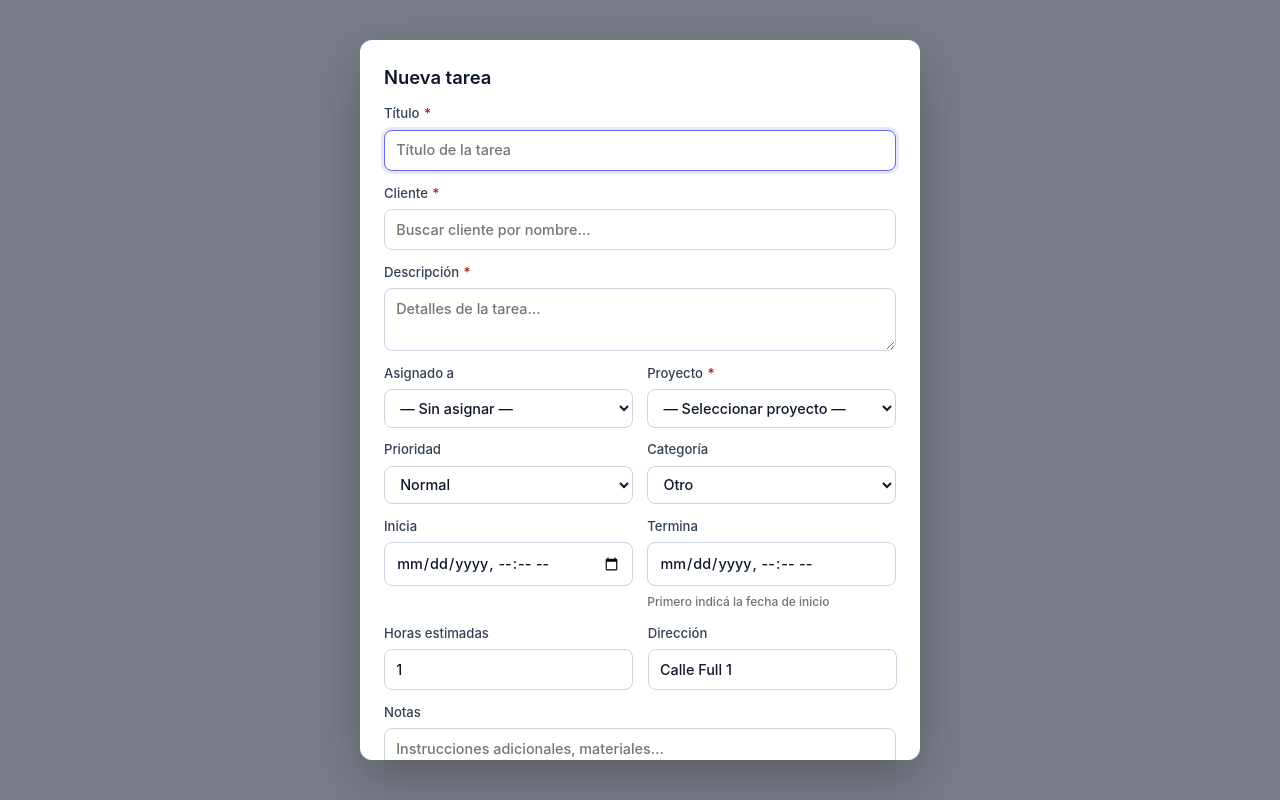
Test: CreateTaskModal › shows an error and does not close when creation fails
In the field with placeholder "Título de la tarea": (640, 150) [384, 130, 896, 171], type "X"
In the field with placeholder "Buscar cliente por nombre…": (640, 230) [384, 209, 896, 250], type "Full"
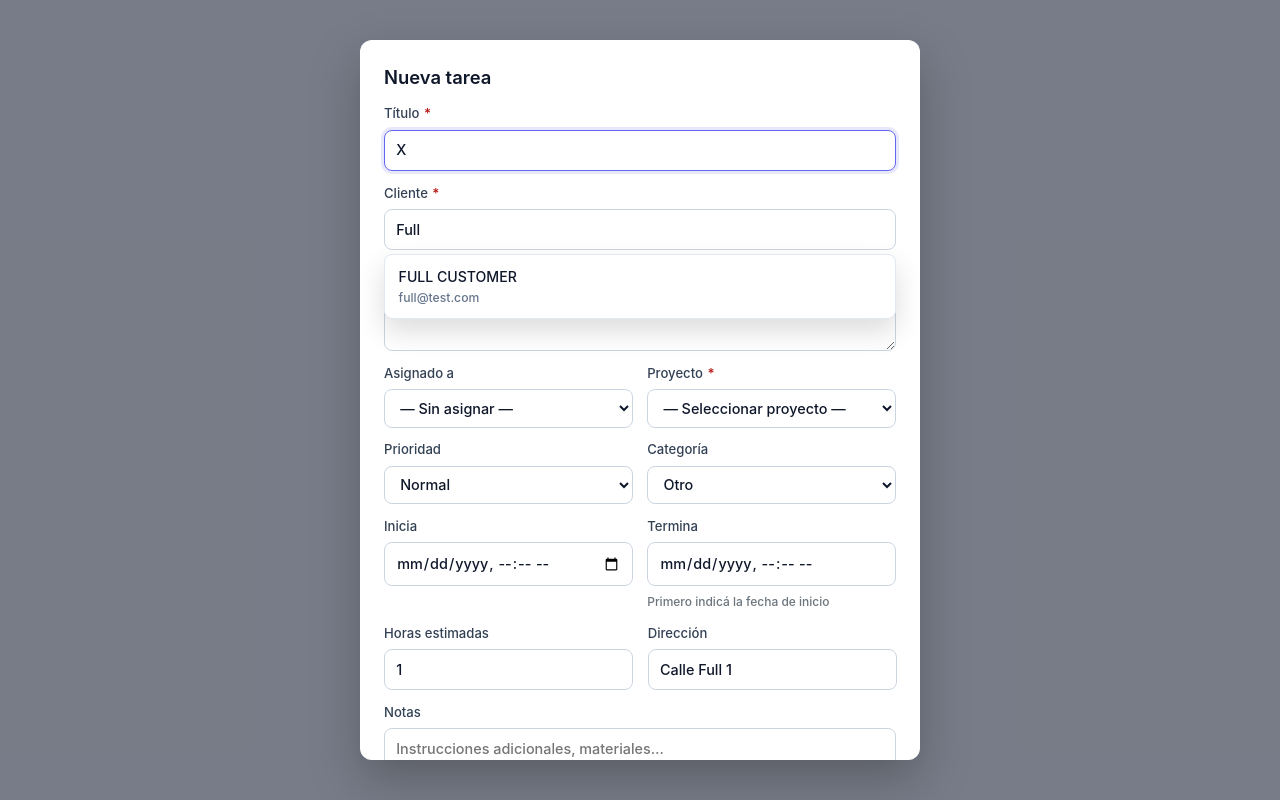
Click the text "FULL CUSTOMER": (458, 277) [399, 266, 517, 287]
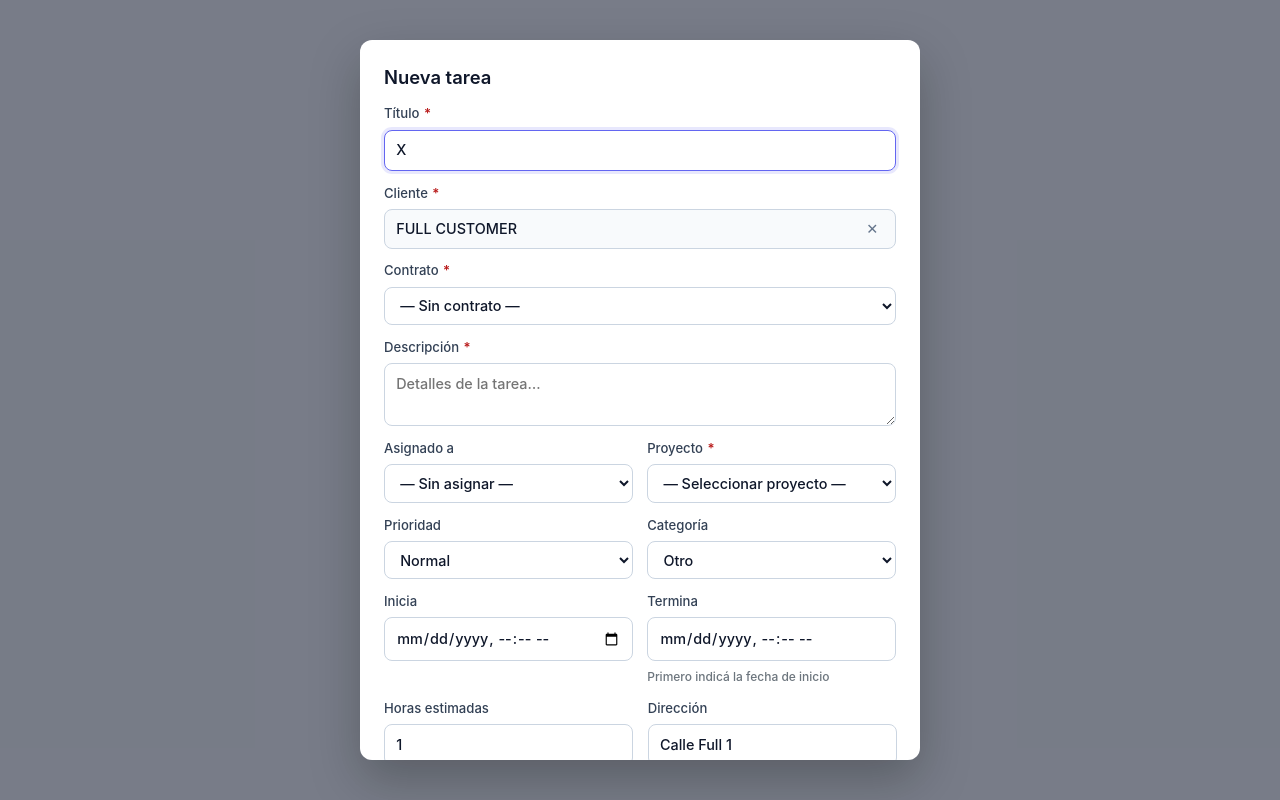
Select "Plan 100Mbps" in the dropdown labelled "Contrato *": (640, 306) [384, 287, 896, 325]
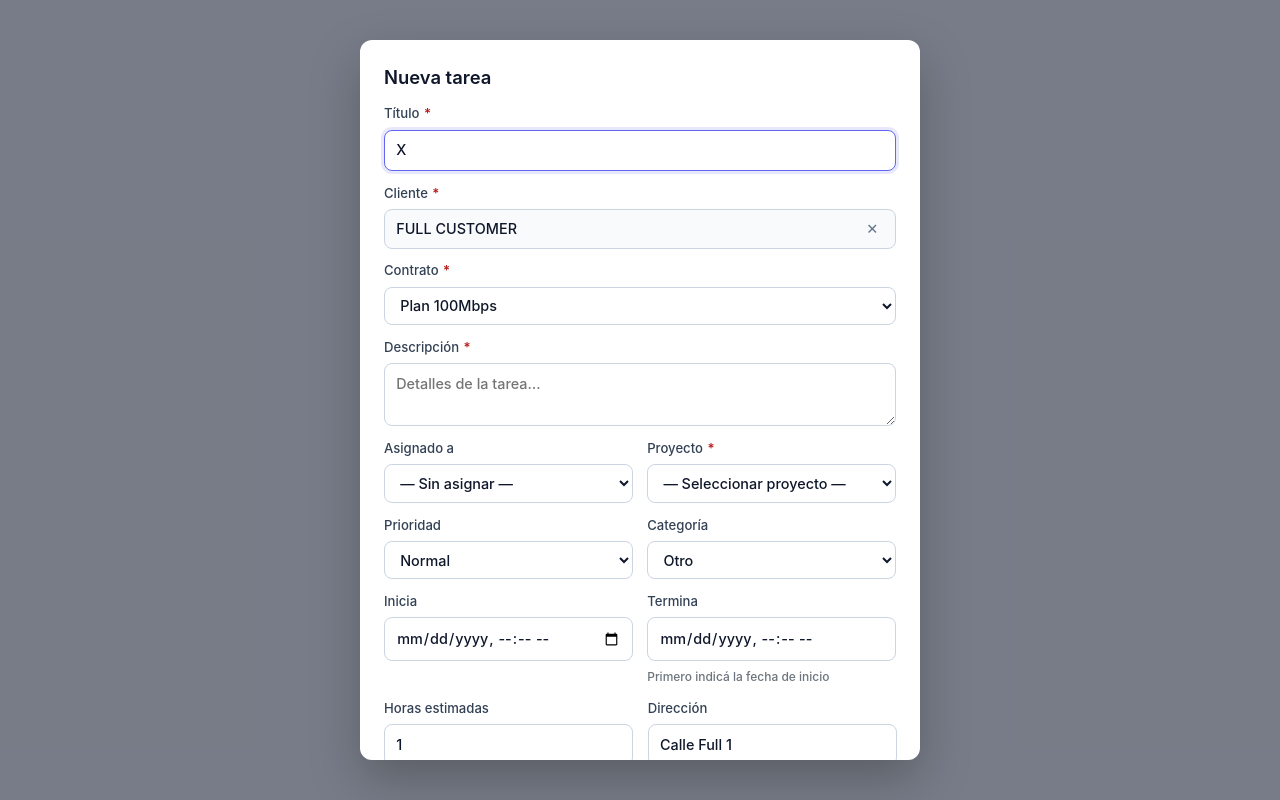
Select "Instalaciones" in the dropdown labelled "Proyecto *": (772, 483) [647, 464, 896, 503]
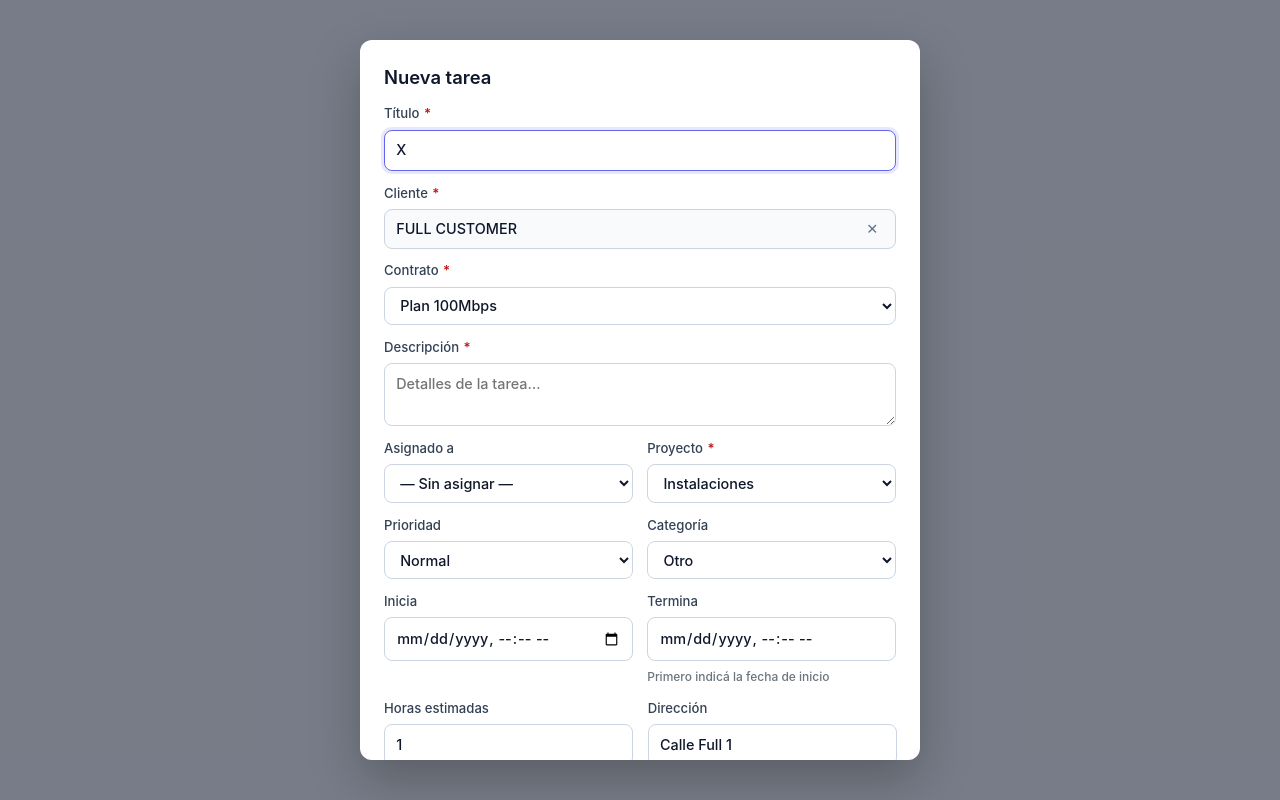
In the text box with placeholder "Detalles de la tarea…": (640, 395) [384, 363, 896, 426], type "desc"
(page scrolled)
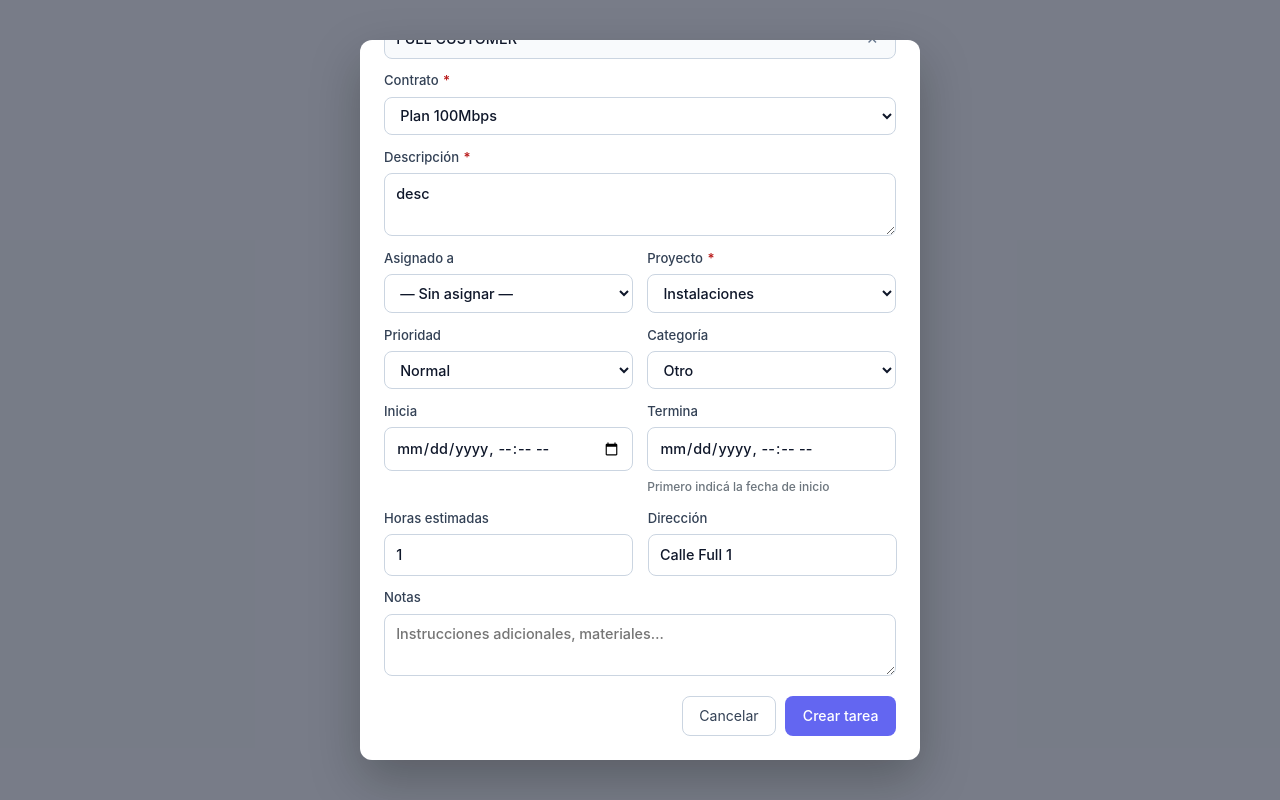
Click the button "Crear tarea": (841, 716) [785, 696, 896, 736]
(page scrolled)
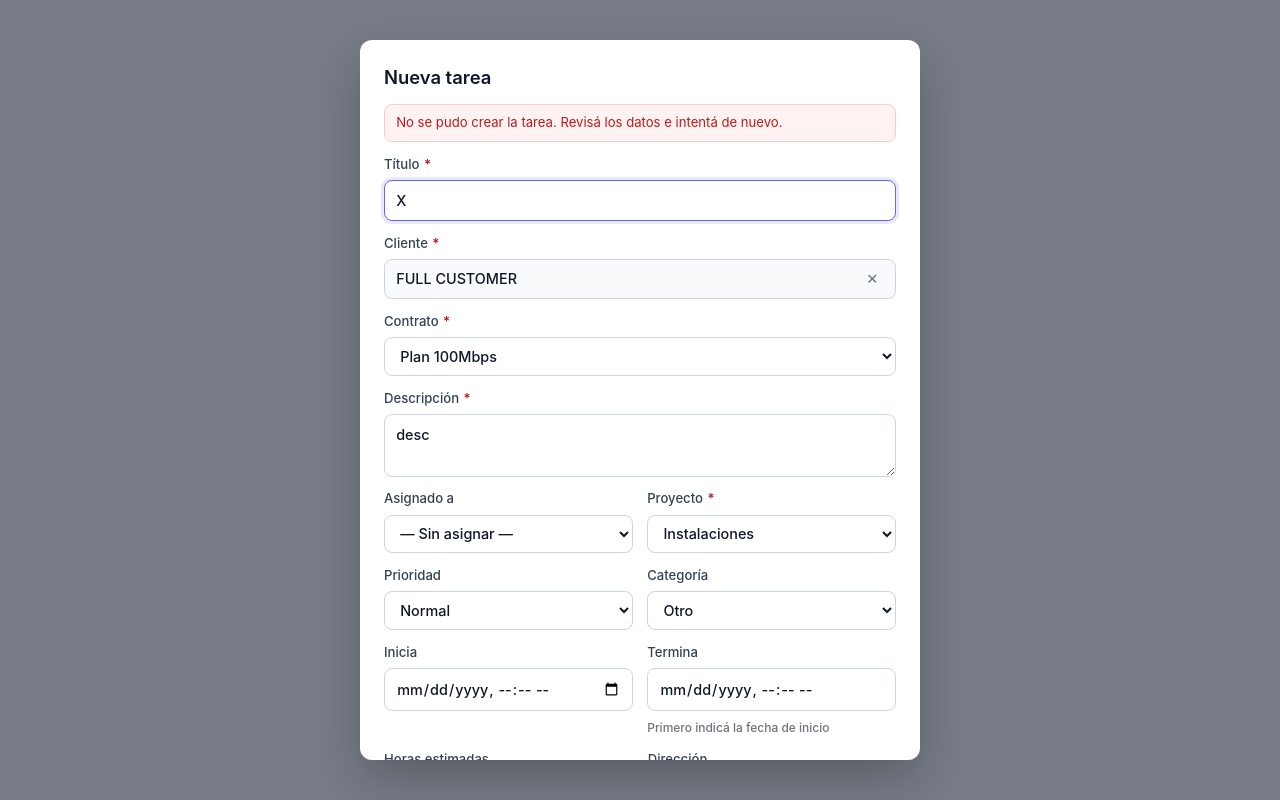
Now the text "No se pudo crear la tarea" is shown, box [396, 114, 782, 130]
